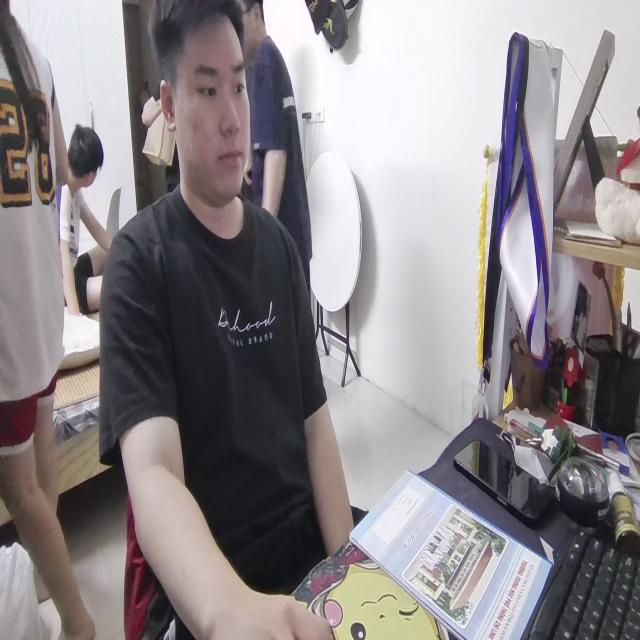book: (350, 464, 552, 640)
extra_person: (0, 0, 98, 640), (244, 0, 322, 289), (60, 119, 105, 335)
phone: (457, 432, 557, 534)
student: (103, 15, 360, 640)
